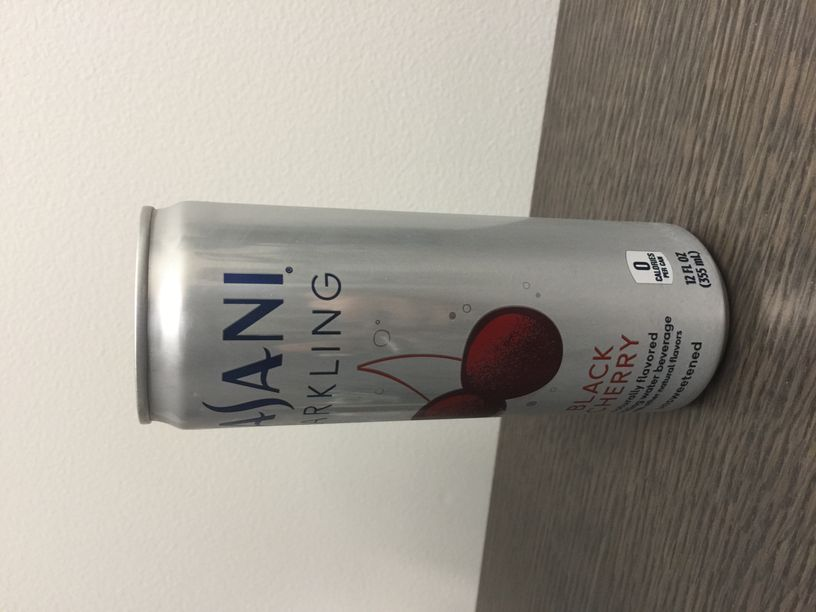blackcherry: (123, 194, 745, 441)
